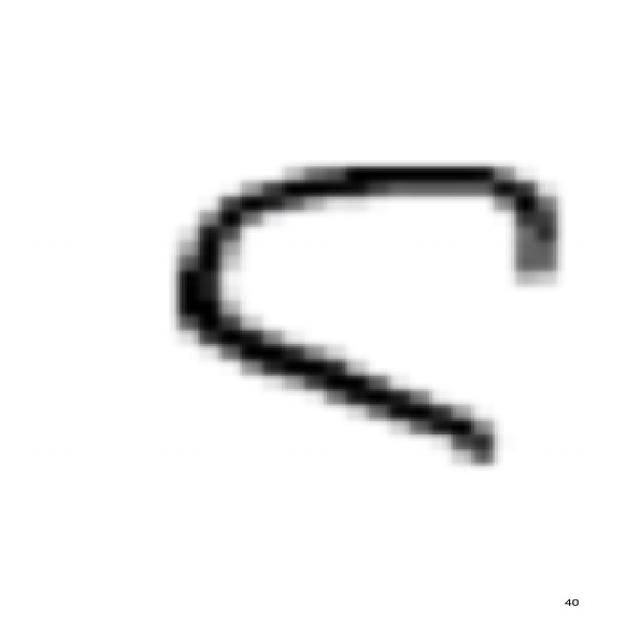2 -two-: (140, 148, 579, 482)
